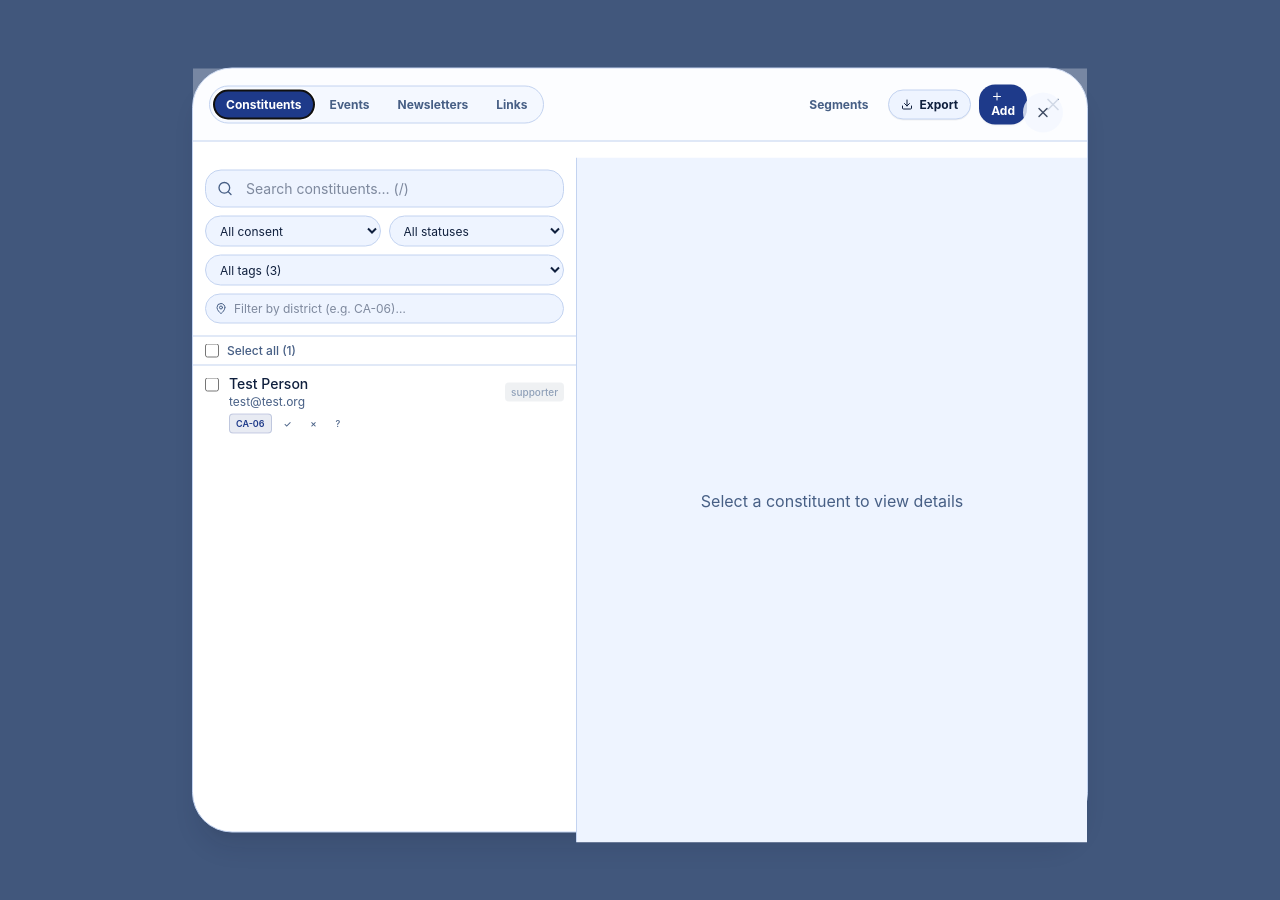
Test case: CRMPanel › provides a link to /admin/crm/segments
Click the button "Segments" at (839, 104), box [797,90,880,118]
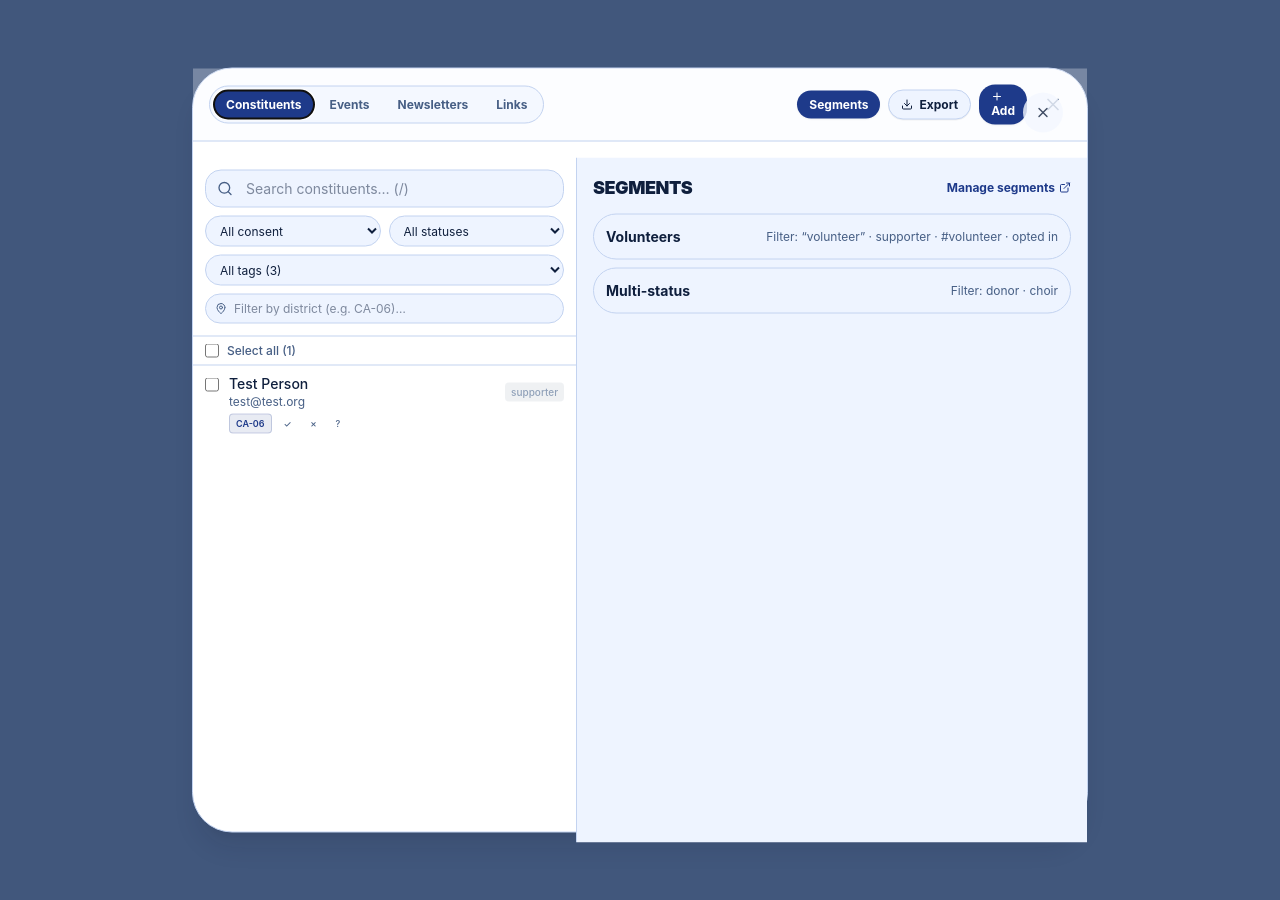
Expected: the link to "/admin/crm/segments" is shown, [947,180,1071,196]
